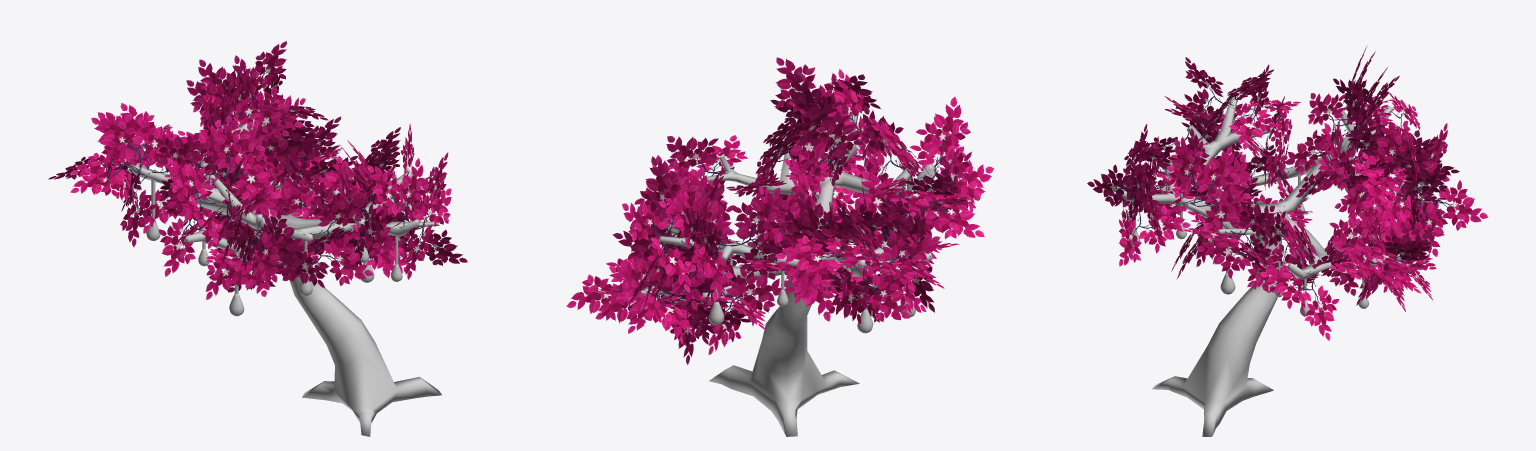
Rendered from PinkTree1.fbx.
3 renders of one model, left to right at view 1: azimuth 30°, elevation 25°; view 2: azimuth 150°, elevation 25°; view 3: azimuth 270°, elevation 25°, orthographic. The views are drawn at different scales.
Parts seen in each view (by area): view 1: Tree8|PinkLeaves_1.001|Dupli|44, Tree8; view 2: Tree8|PinkLeaves_1.001|Dupli|44, Tree8; view 3: Tree8|PinkLeaves_1.001|Dupli|44, Tree8.
Part boxes in pixels (<box>): Tree8|PinkLeaves_1.001|Dupli|44: <box>48,41,467,299</box>; Tree8: <box>127,114,441,436</box>; Tree8|PinkLeaves_1.001|Dupli|44: <box>566,57,993,364</box>; Tree8: <box>640,112,938,436</box>; Tree8|PinkLeaves_1.001|Dupli|44: <box>1087,45,1488,340</box>; Tree8: <box>1102,96,1431,436</box>.
Bounding box in the file's own units: 1955 × 1601 × 2125.
